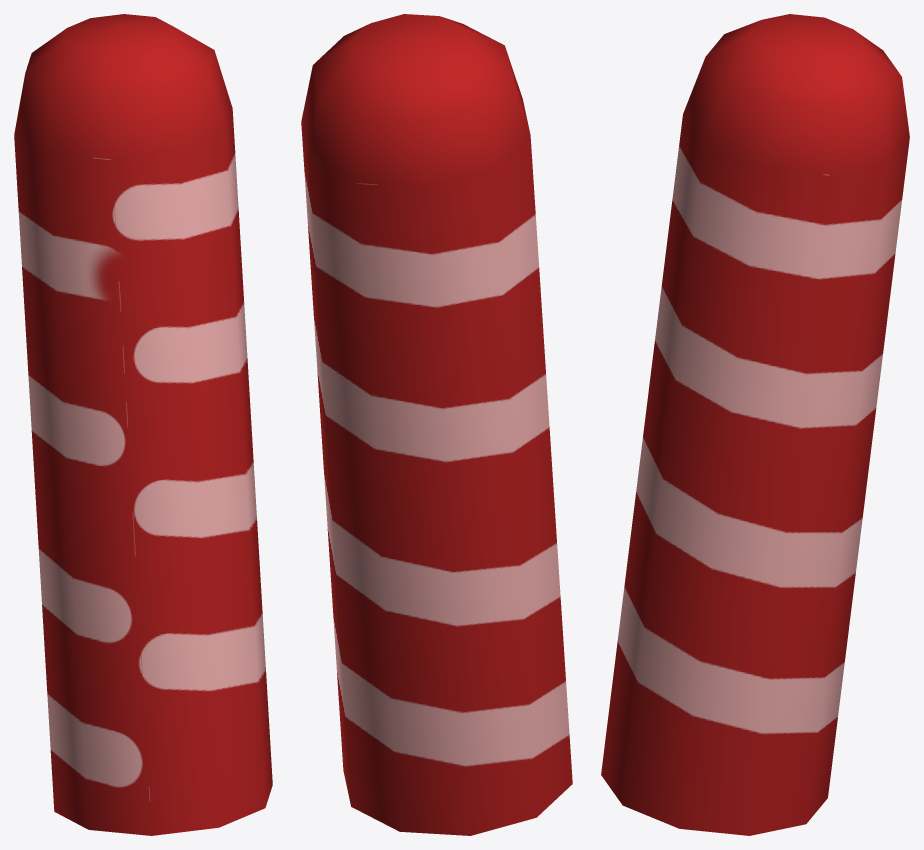
File: valla final 1.fbx
The picture shows the model from 3 angles, left to right: view 1: azimuth 30°, elevation 25°; view 2: azimuth 150°, elevation 25°; view 3: azimuth 270°, elevation 25°; orthographic projection. The views are drawn at different scales.
Visible parts, largest first — view 1: Sphere.092; view 2: Sphere.092; view 3: Sphere.092.
Boxes of the visible parts, <box> form: Sphere.092: <box>14,14,272,835</box>; Sphere.092: <box>301,14,572,835</box>; Sphere.092: <box>601,14,909,835</box>.
Size of the model in its own units: 25.3 by 98.36 by 35.99.
